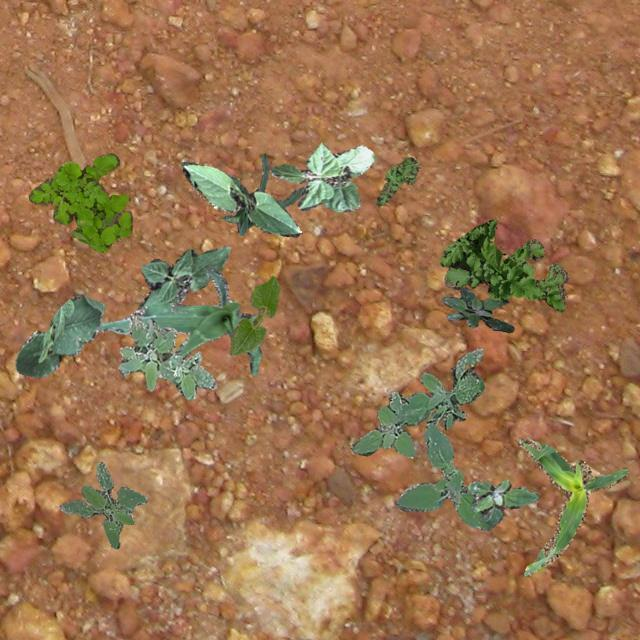crop: (97, 264, 260, 374), (516, 436, 628, 576), (180, 152, 306, 235), (182, 162, 300, 236), (15, 294, 104, 376), (270, 142, 374, 210), (137, 246, 231, 310), (228, 274, 278, 354)
weed: (350, 346, 490, 530), (438, 218, 568, 310), (28, 152, 132, 250), (117, 314, 215, 400), (58, 462, 146, 548), (468, 478, 538, 528), (440, 286, 512, 332), (374, 156, 418, 204)
